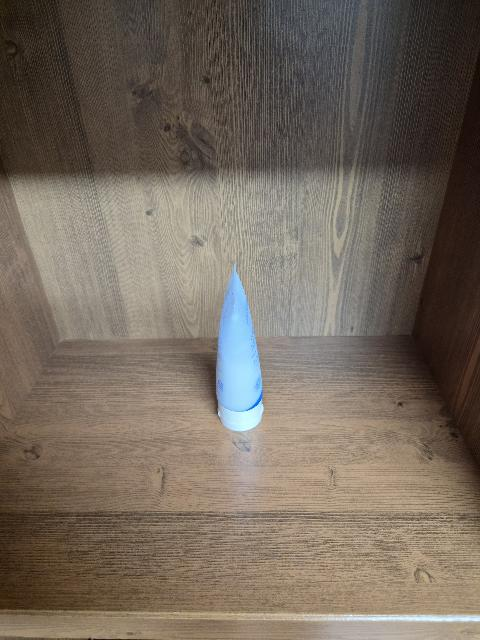handcream: (216, 263, 264, 431)
